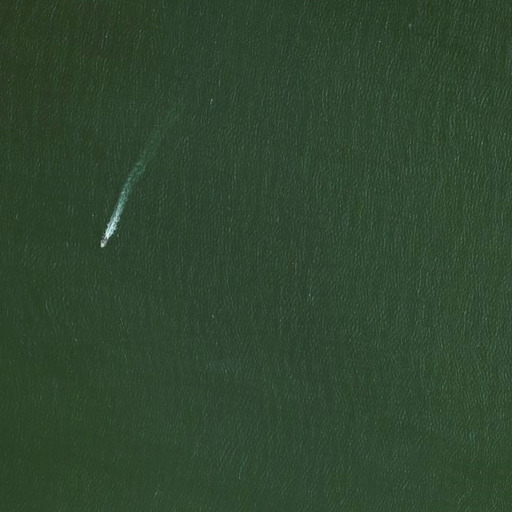ship: (97, 237, 109, 250)
